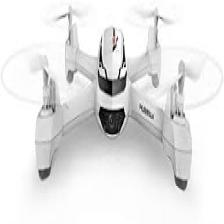drone: (11, 5, 216, 224)
